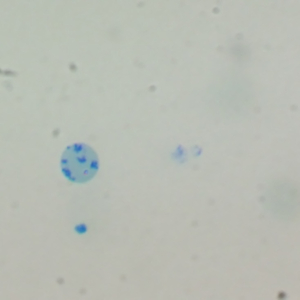aggregate reticulocyte: (58, 142, 101, 184)
